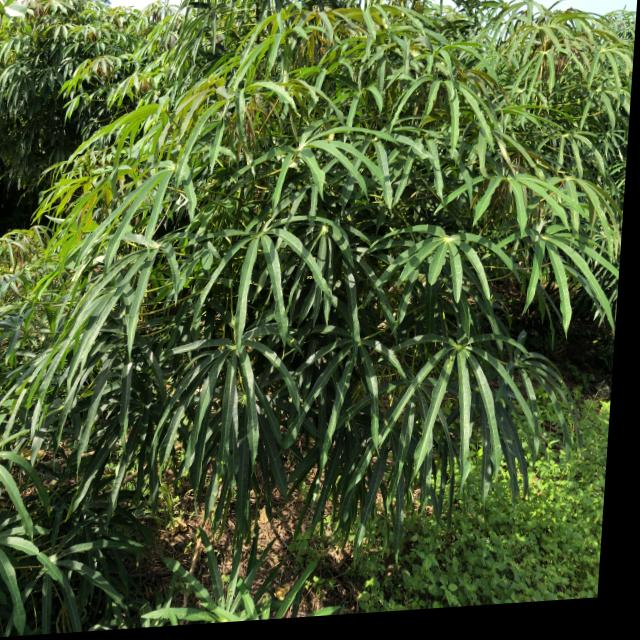Maleza: (374, 501, 623, 610)
Mosca: (210, 468, 229, 489), (412, 413, 424, 430), (287, 390, 297, 406)
